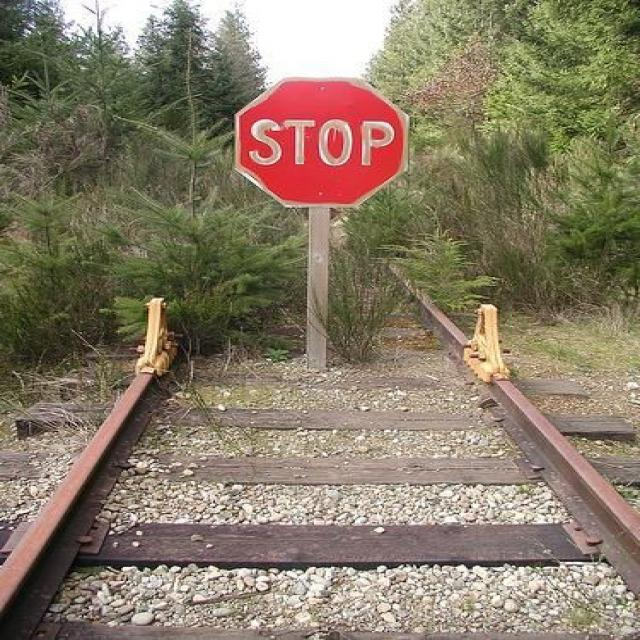stop: (232, 75, 409, 209)
